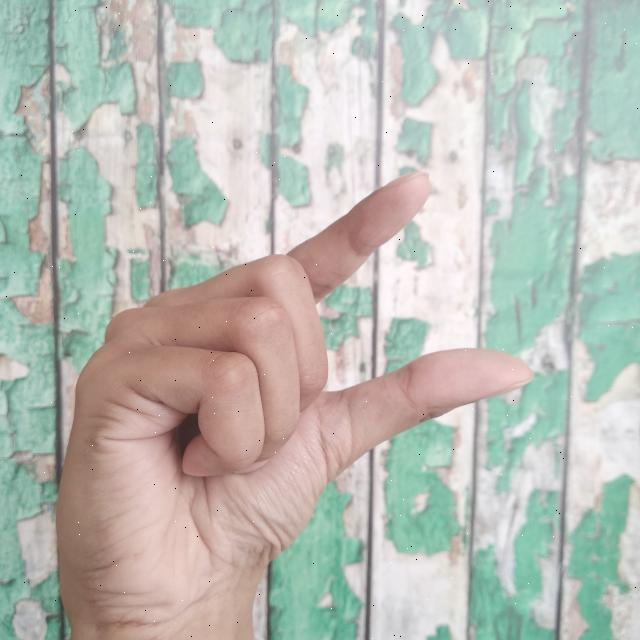G: (55, 168, 538, 640)
